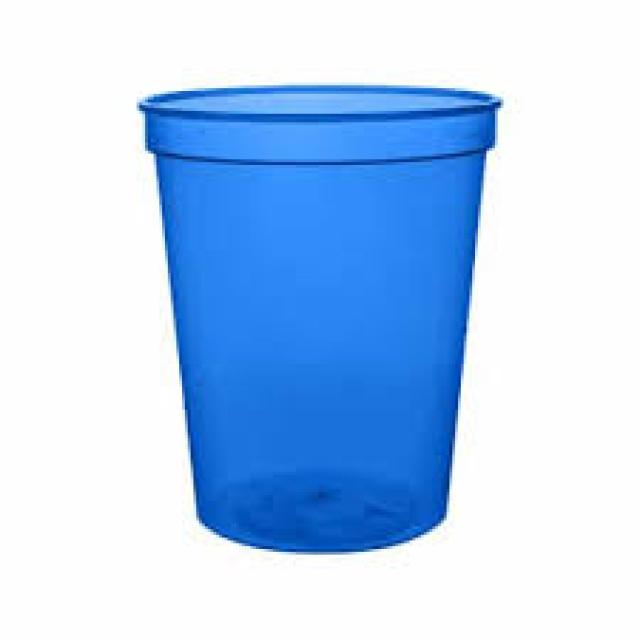cup: (131, 48, 522, 575)
